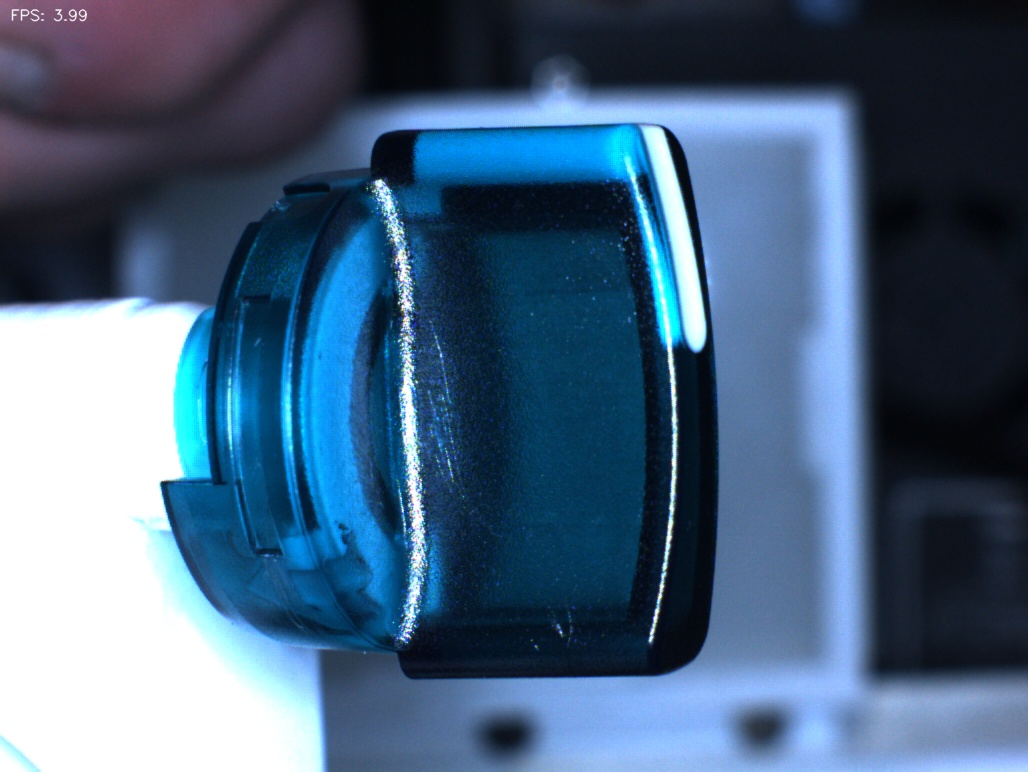Givrage: (484, 538, 604, 675)
